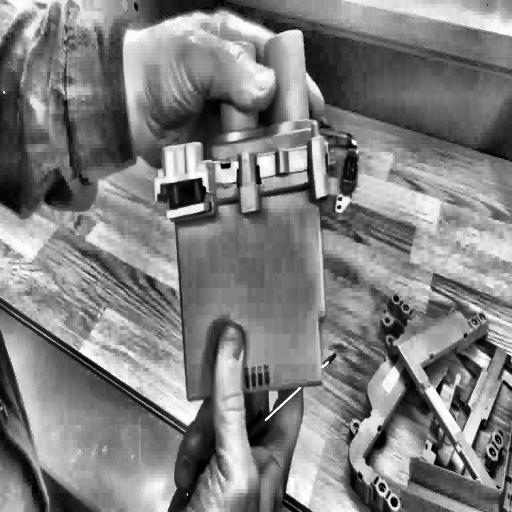connector: (150, 46, 338, 406)
